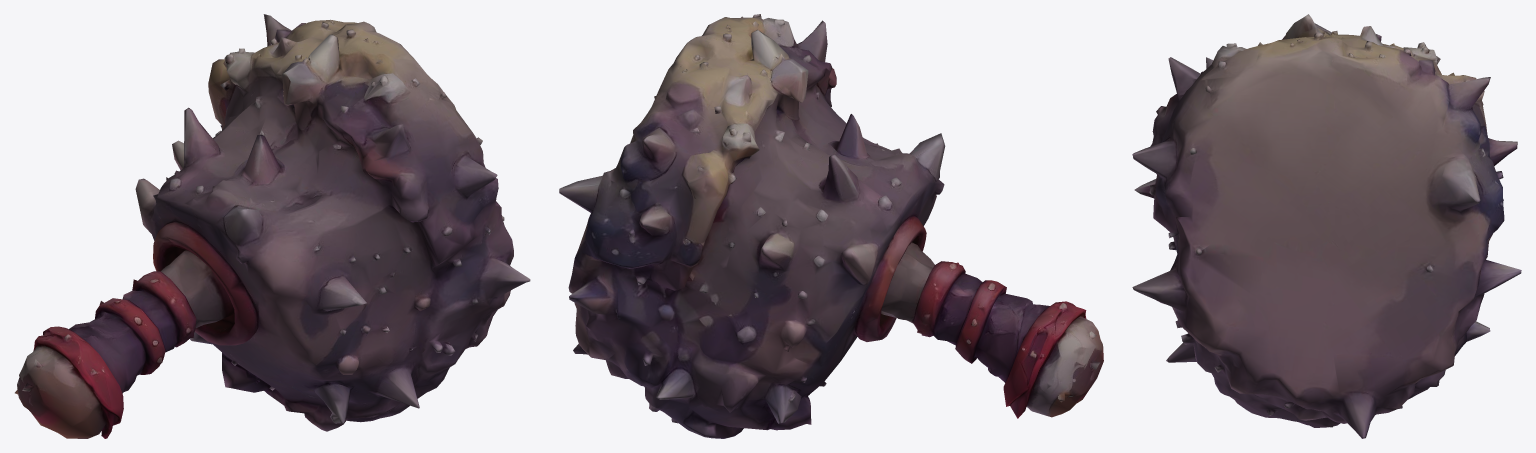
Rendered from mace-club.glb.
3 views of the same model, side by side, from view 1: azimuth 30°, elevation 25°; view 2: azimuth 150°, elevation 25°; view 3: azimuth 270°, elevation 25° (orthographic). The views are drawn at different scales.
Parts seen in each view (by area): view 1: tripo_node_e86666df-826e-491e-b8e2-765b8170a0b7; view 2: tripo_node_e86666df-826e-491e-b8e2-765b8170a0b7; view 3: tripo_node_e86666df-826e-491e-b8e2-765b8170a0b7.
Part boxes in pixels (box(x1,y1,x2,y2)): tripo_node_e86666df-826e-491e-b8e2-765b8170a0b7: box(15, 14, 530, 438); tripo_node_e86666df-826e-491e-b8e2-765b8170a0b7: box(559, 14, 1103, 438); tripo_node_e86666df-826e-491e-b8e2-765b8170a0b7: box(1132, 14, 1521, 438).
Size of the model in its own units: 1 by 0.7756 by 0.6848.
1 material, 1 textured.
